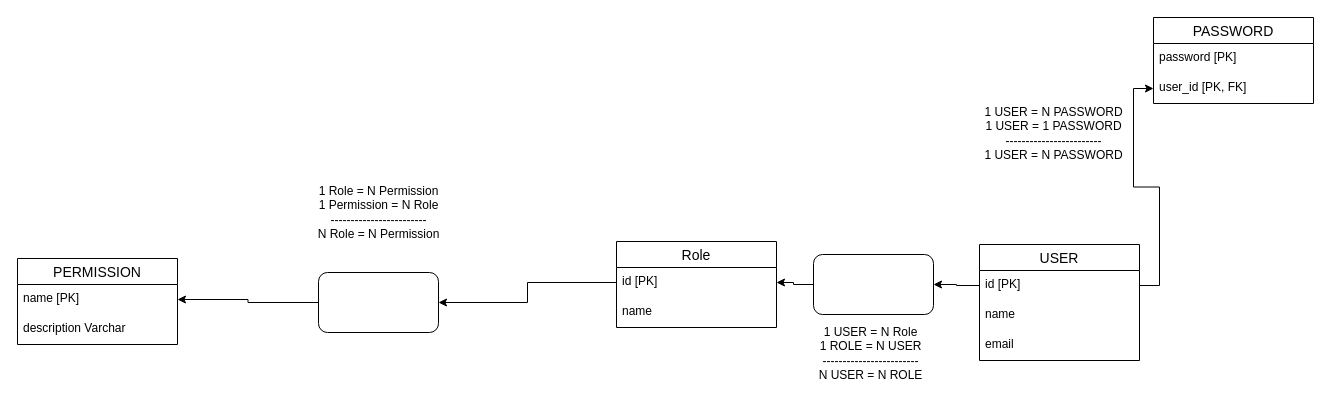
Image size: 1331x406. Some labels were removed from this diagram. The shapes that lost their labels are listed below. From the top down, each one's centre as x and y in pixels, then its label:
At (x=378, y=302): "Role - Permission".
At (x=873, y=284): "User-Role".
